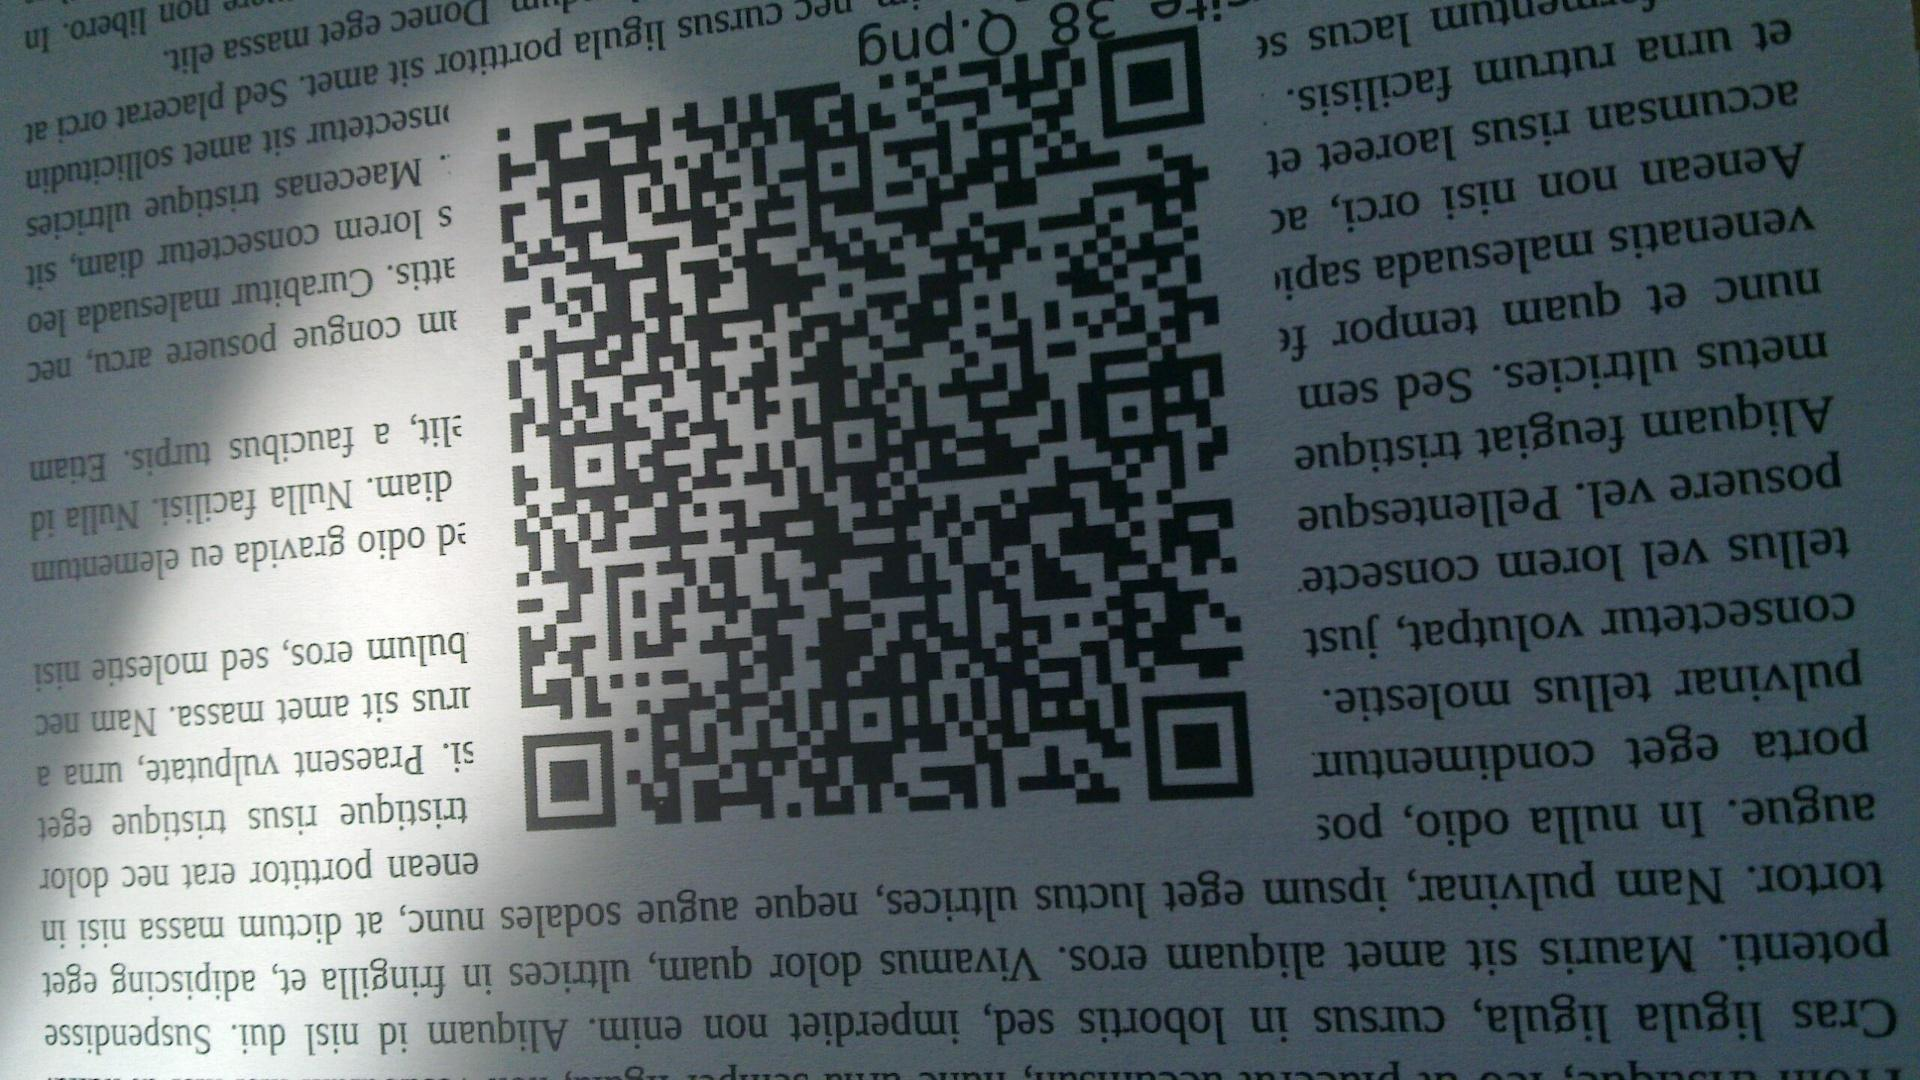qr_code: (497, 24, 1257, 832)
